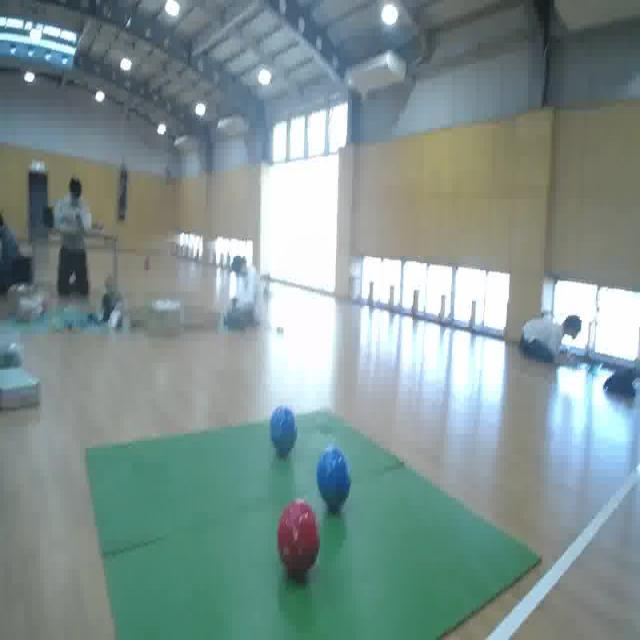blue_ball: (317, 446, 352, 513), (268, 405, 298, 461)
red_ball: (275, 492, 321, 590)
